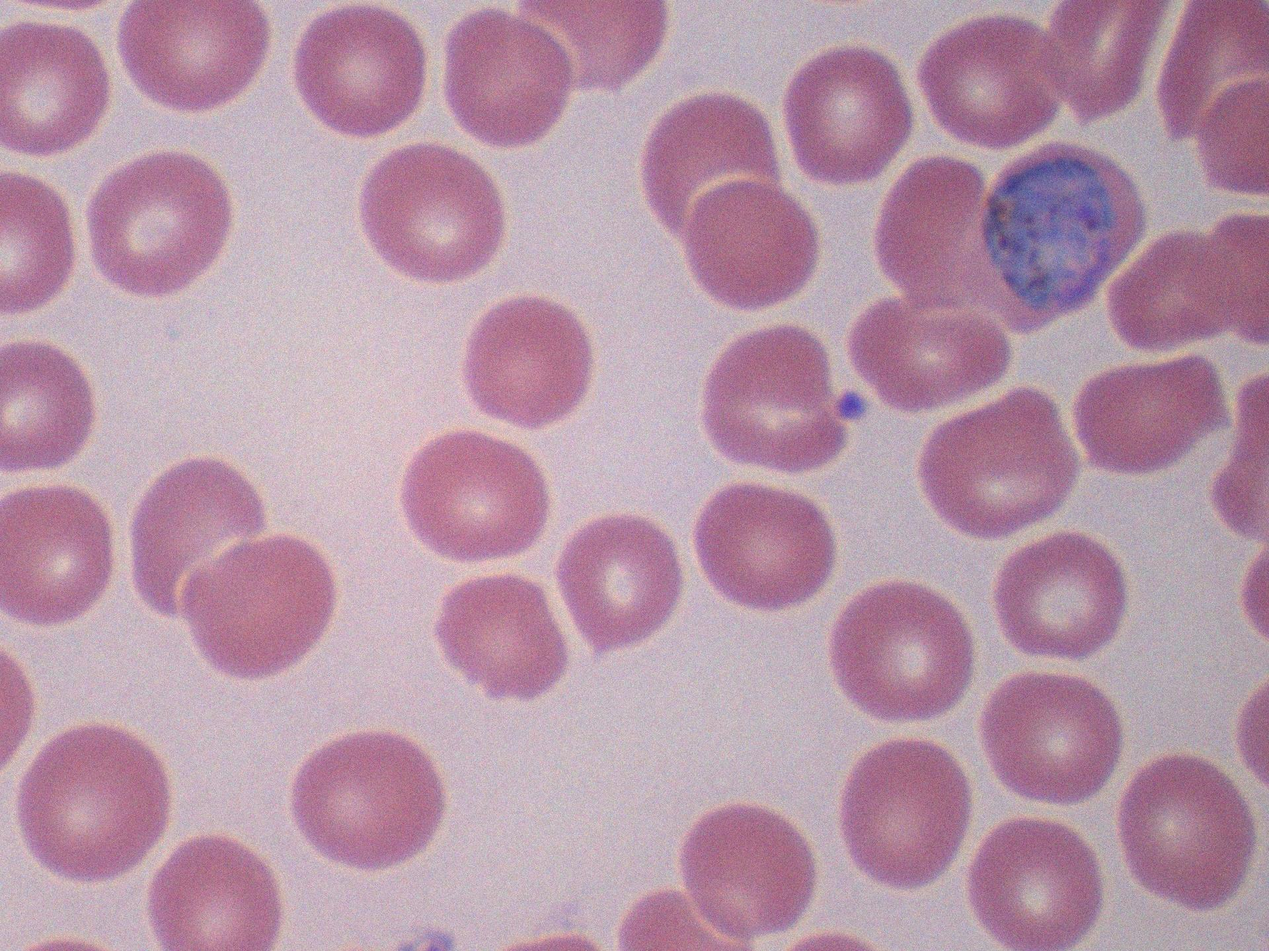Infected: (976, 145, 1147, 328)
Uninfected: (284, 723, 444, 877), (177, 535, 336, 681), (15, 726, 165, 880), (917, 393, 1075, 538), (701, 324, 852, 471), (132, 459, 268, 617), (87, 151, 229, 293), (919, 14, 1068, 148), (1114, 757, 1251, 901), (641, 93, 783, 231), (359, 144, 502, 281), (829, 584, 973, 720), (839, 743, 975, 885), (403, 432, 549, 561), (679, 803, 817, 937), (871, 156, 993, 307), (679, 176, 816, 308), (981, 673, 1122, 801), (1075, 355, 1224, 474), (692, 488, 836, 611), (292, 5, 428, 133), (849, 299, 1004, 410), (555, 516, 681, 652), (461, 296, 592, 426), (968, 821, 1104, 946), (436, 575, 572, 699), (444, 11, 571, 143), (992, 534, 1126, 658), (119, 0, 265, 112), (1108, 228, 1242, 350), (784, 48, 908, 178), (1, 487, 114, 625), (1044, 0, 1169, 122), (1165, 0, 1269, 142), (147, 841, 281, 951), (0, 21, 106, 153), (520, 1, 660, 91), (3, 342, 95, 468), (1, 173, 77, 315), (1194, 79, 1267, 193)
